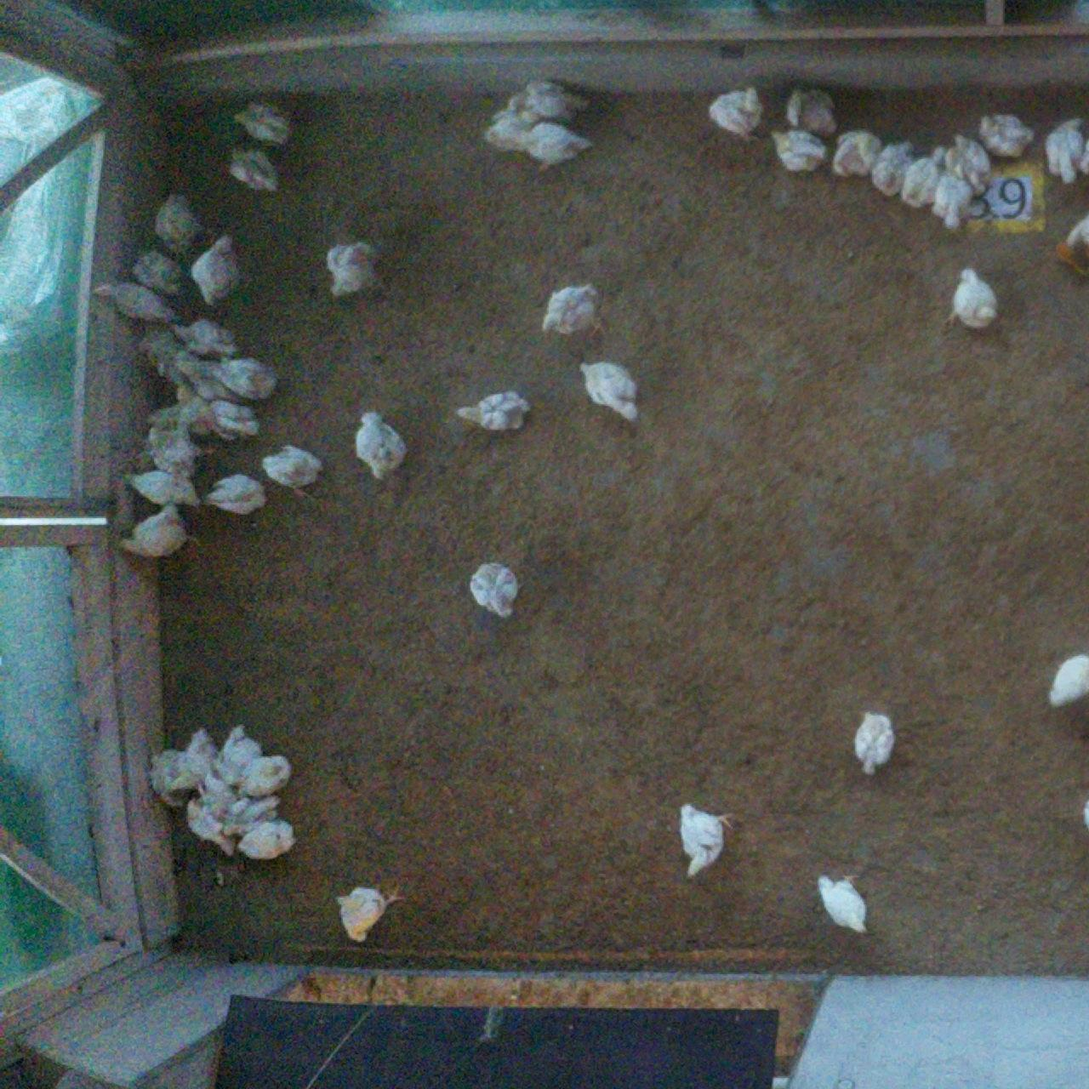chicken: (672, 798, 738, 887), (332, 877, 409, 948), (113, 500, 192, 564), (499, 76, 596, 128), (576, 354, 645, 427), (186, 228, 247, 310), (808, 865, 874, 940), (536, 278, 609, 345), (258, 437, 331, 504), (89, 274, 182, 326), (515, 116, 594, 176), (350, 408, 411, 485), (205, 350, 289, 405), (705, 83, 770, 150), (319, 236, 382, 305), (450, 383, 532, 436), (943, 262, 1002, 335), (176, 795, 240, 861), (761, 121, 833, 178), (150, 188, 207, 259), (144, 422, 215, 478), (942, 127, 995, 201), (849, 705, 899, 783), (121, 464, 202, 512), (971, 106, 1038, 164), (230, 95, 299, 151), (930, 146, 973, 235), (466, 558, 523, 625), (168, 309, 241, 361), (192, 392, 262, 446), (169, 347, 234, 405), (1041, 111, 1089, 189), (783, 81, 843, 143), (899, 139, 949, 213), (211, 719, 262, 790), (171, 724, 219, 798), (199, 469, 269, 519), (867, 134, 919, 201), (146, 745, 198, 812), (220, 794, 286, 845), (127, 245, 188, 300), (236, 749, 298, 803), (482, 99, 534, 162), (830, 125, 886, 182), (226, 144, 285, 198), (235, 817, 302, 864), (1043, 652, 1089, 715), (172, 383, 215, 444), (137, 322, 184, 376), (198, 772, 246, 823)
